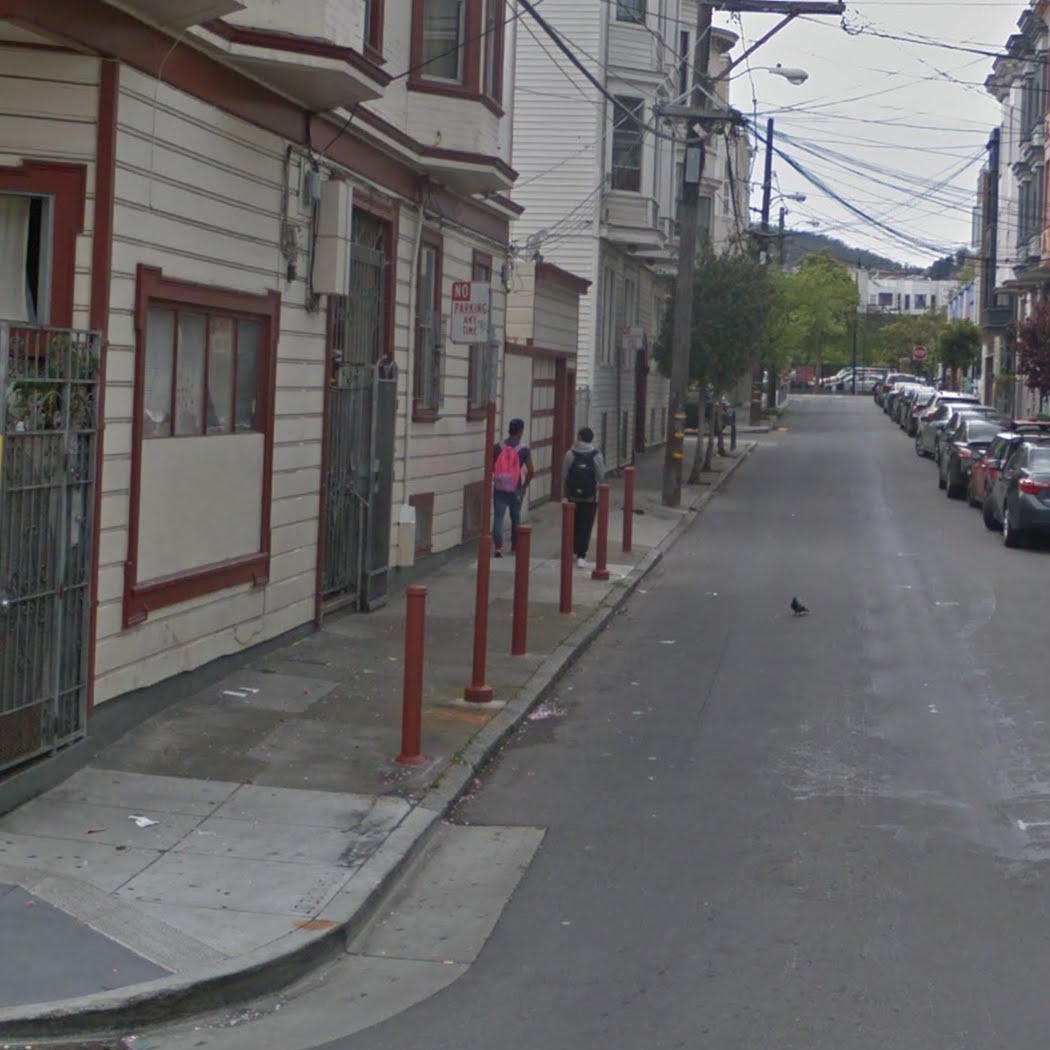No Parking Anytime: (448, 279, 492, 347), (620, 326, 642, 351)
